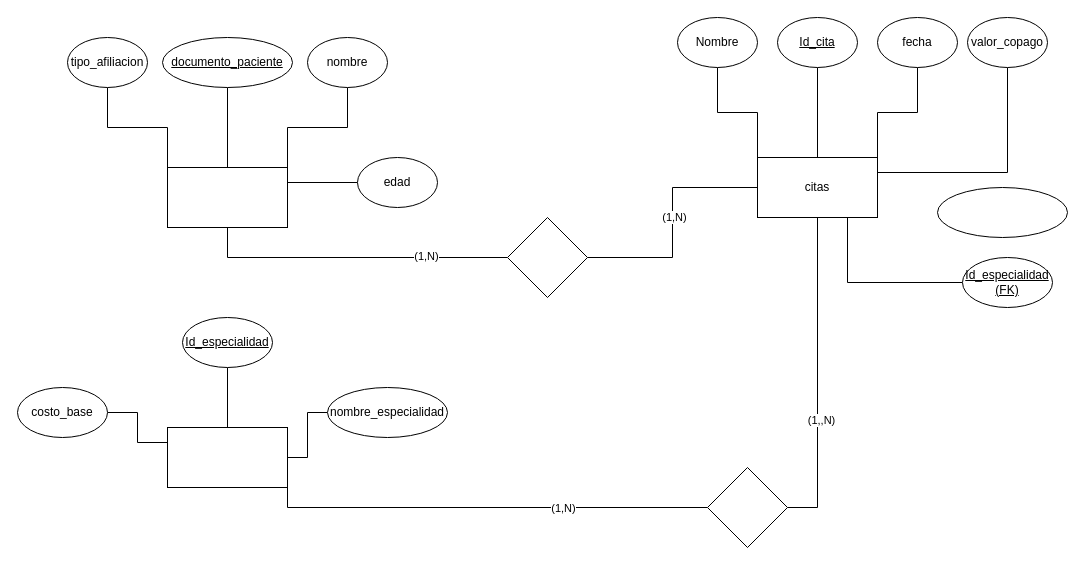
This 1085x565 diagram has some shape labels left out. Here are the shapes that lost their labels. From the top down, the centre of each, then its label:
the point at 227,197: pacientes
the point at 1002,212: documento_paciente (FK)
the point at 547,257: Agendar
the point at 227,457: especialidad
the point at 747,507: Asignada
